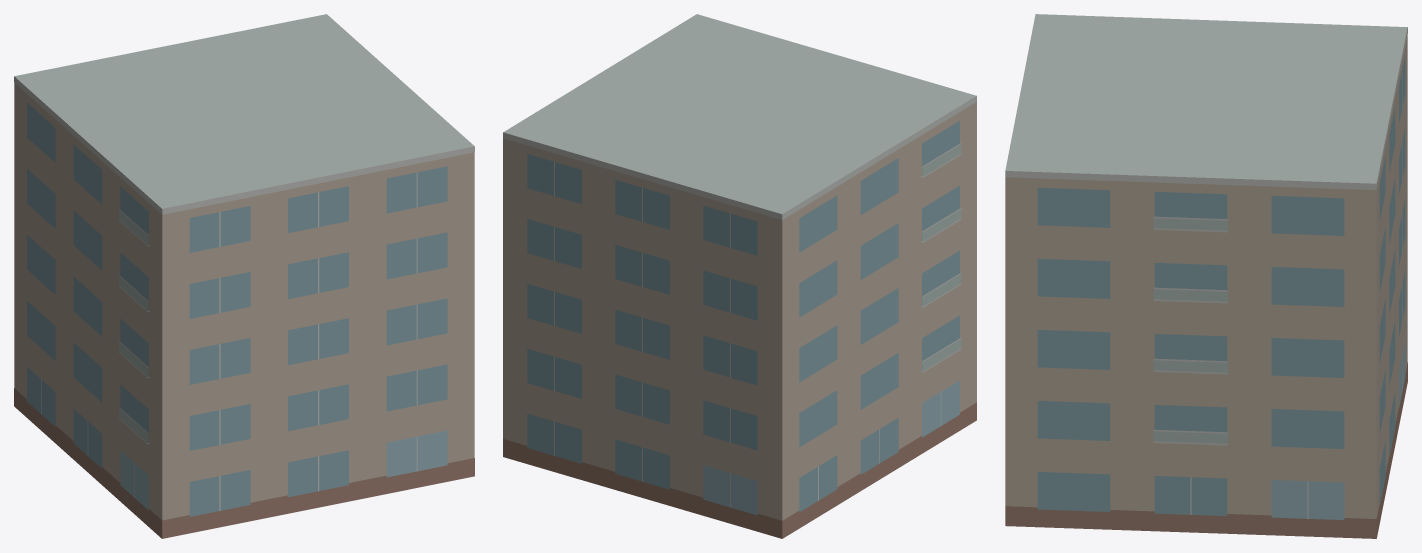
File: survey-upis-32870409.glb
3 views of the same model, side by side, from view 1: azimuth 30°, elevation 25°; view 2: azimuth 150°, elevation 25°; view 3: azimuth 270°, elevation 25° (orthographic). The views are drawn at different scales.
Visible parts, largest first — view 1: survey-upis-32870409.tmp; view 2: survey-upis-32870409.tmp; view 3: survey-upis-32870409.tmp.
Part boxes in pixels (left/top/right/bottom): survey-upis-32870409.tmp: left=14, top=14, right=474, bottom=538; survey-upis-32870409.tmp: left=503, top=14, right=976, bottom=538; survey-upis-32870409.tmp: left=1005, top=14, right=1407, bottom=538.
Size of the model in its own units: 13.84 by 13.5 by 13.87.
